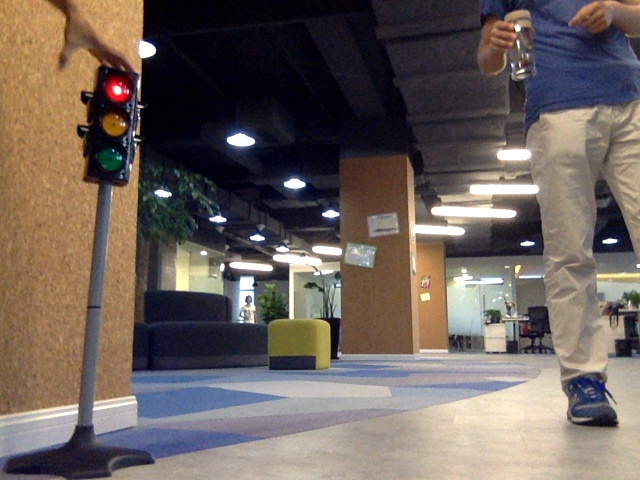red: (90, 73, 129, 177)
